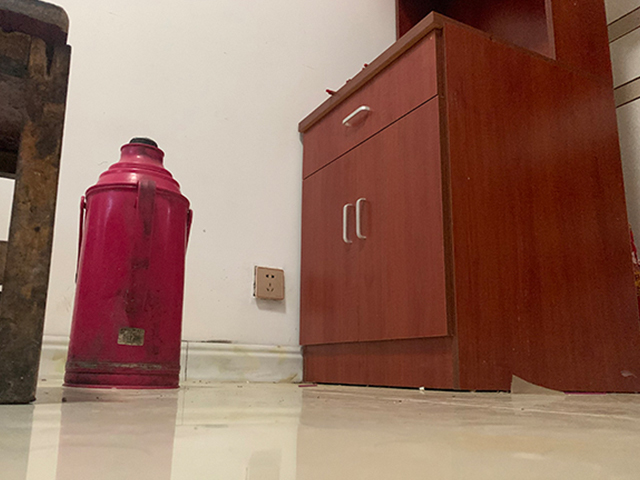cabinet: (295, 10, 640, 397)
